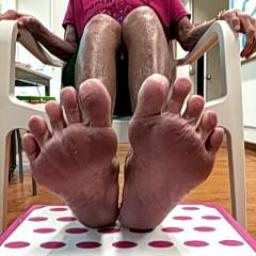Plantar View -Both Feet-: (8, 62, 246, 243)
